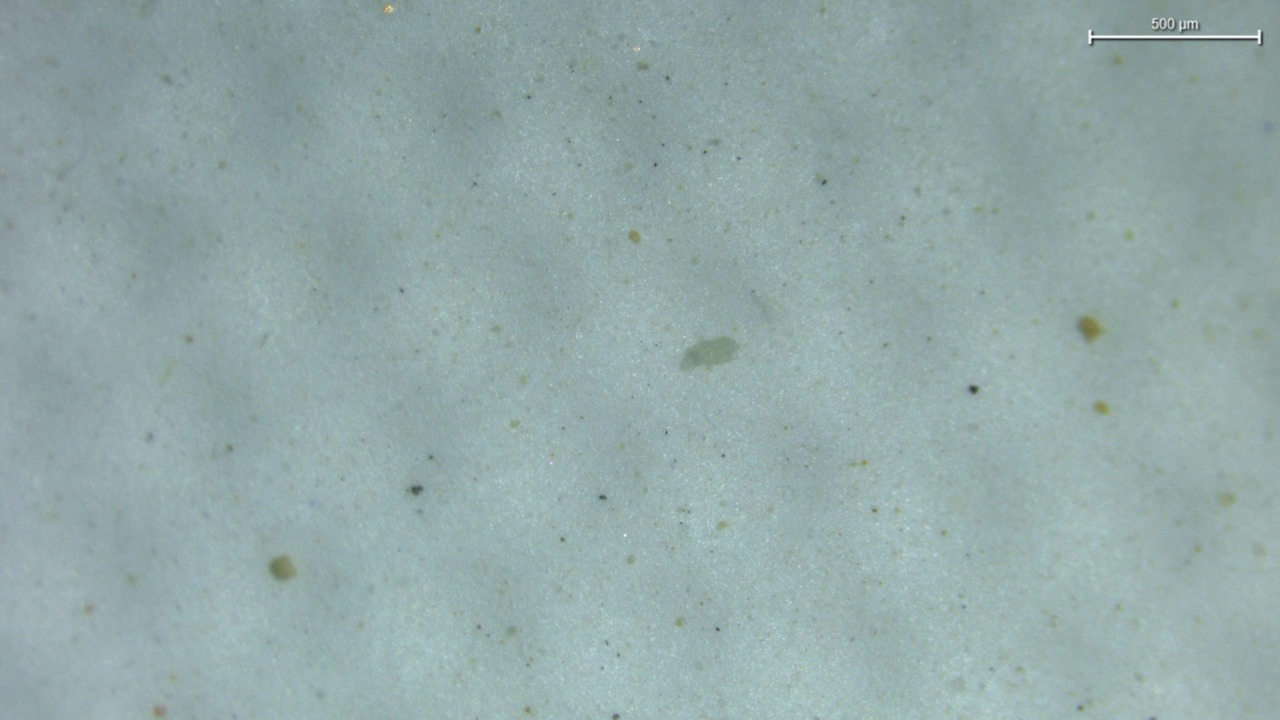microplastic_fragment: (680, 336, 739, 370)
